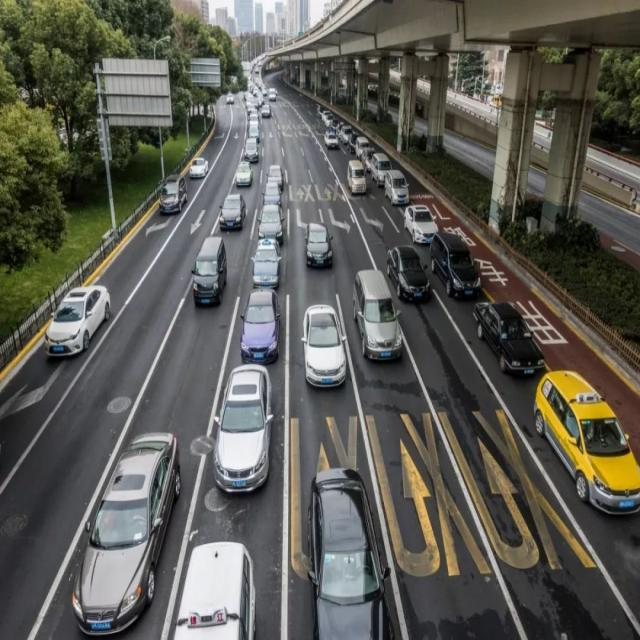point: (196, 14, 324, 167)
